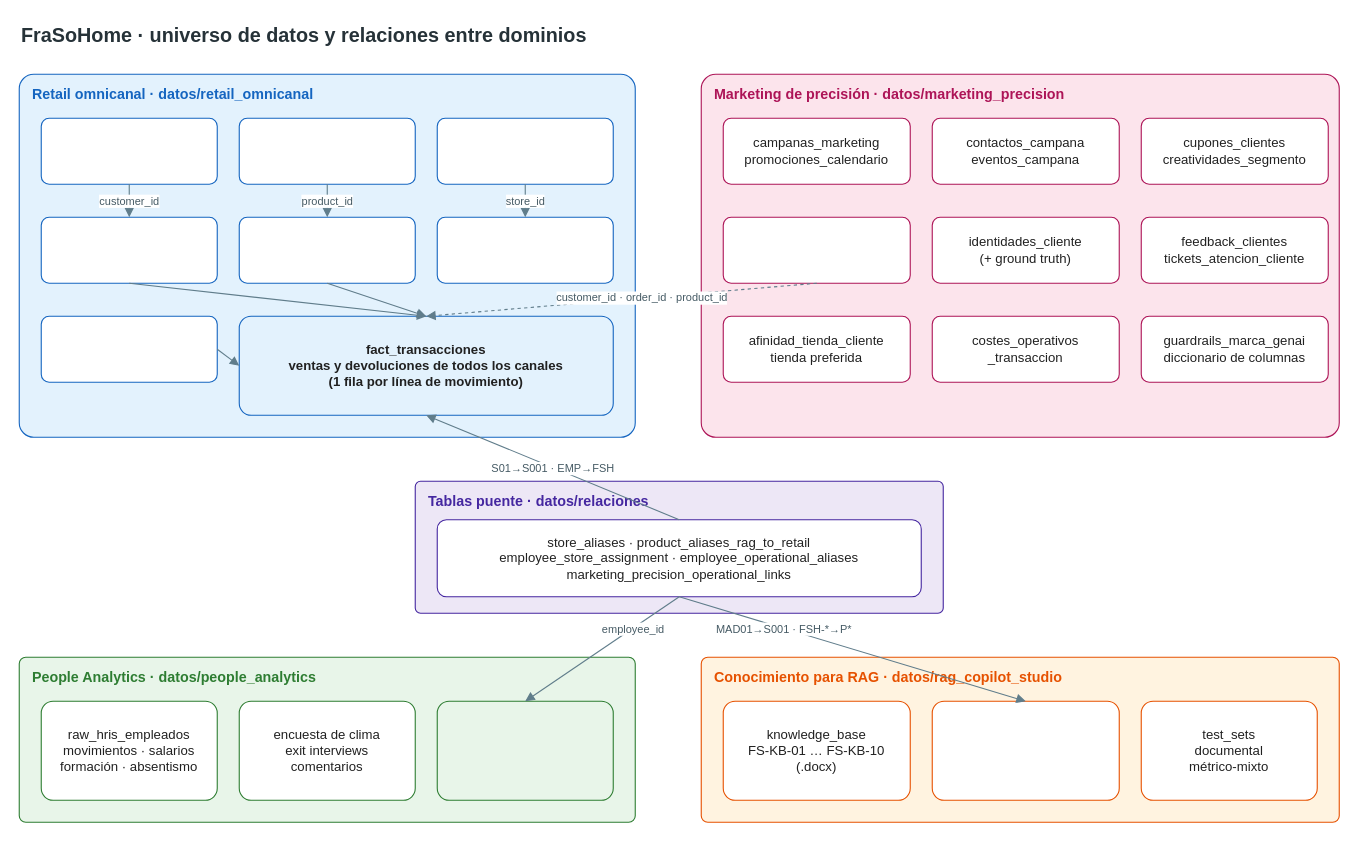
Some shapes in this 1359 by 842 pixel diagram are drawn without their labels. The centre of each missing label's shape, as x and y in pixels:
crm clientes y fidelización: [128,150]
devoluciones_online devoluciones_tienda: [128,348]
eventos_web_app navegación y sesiones: [816,249]
frasohome_people _analytics (1 fila por empleado): [524,750]
pedidos + lineas_pedido ecommerce: [128,249]
productos catálogo y costes: [326,150]
stock_diario ERP: [524,249]
structured_csv FS_Ventas, FS_Devoluciones FS_Stock, FS_Tiendas…: [1025,750]
tiendas S001…S006 + ONLINE: [524,150]
ventas_pos + pagos_tienda TPV: [326,249]
